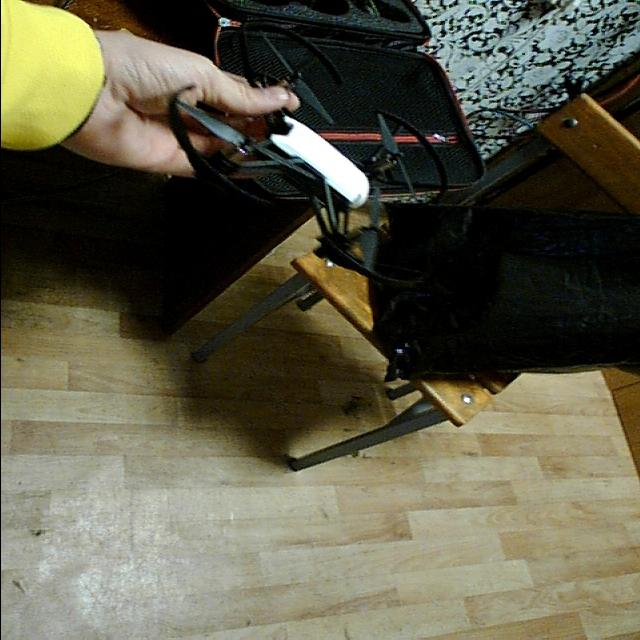drone: (158, 13, 462, 296)
